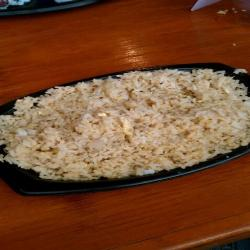rice: (6, 67, 250, 182)
